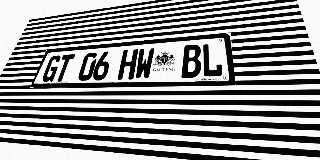0: (77, 52, 99, 81)
6: (91, 51, 113, 81)
B: (181, 44, 201, 78)
G: (40, 55, 63, 82)
H: (117, 49, 138, 80)
L: (202, 43, 223, 77)
T: (53, 54, 75, 82)
W: (134, 48, 155, 79)
